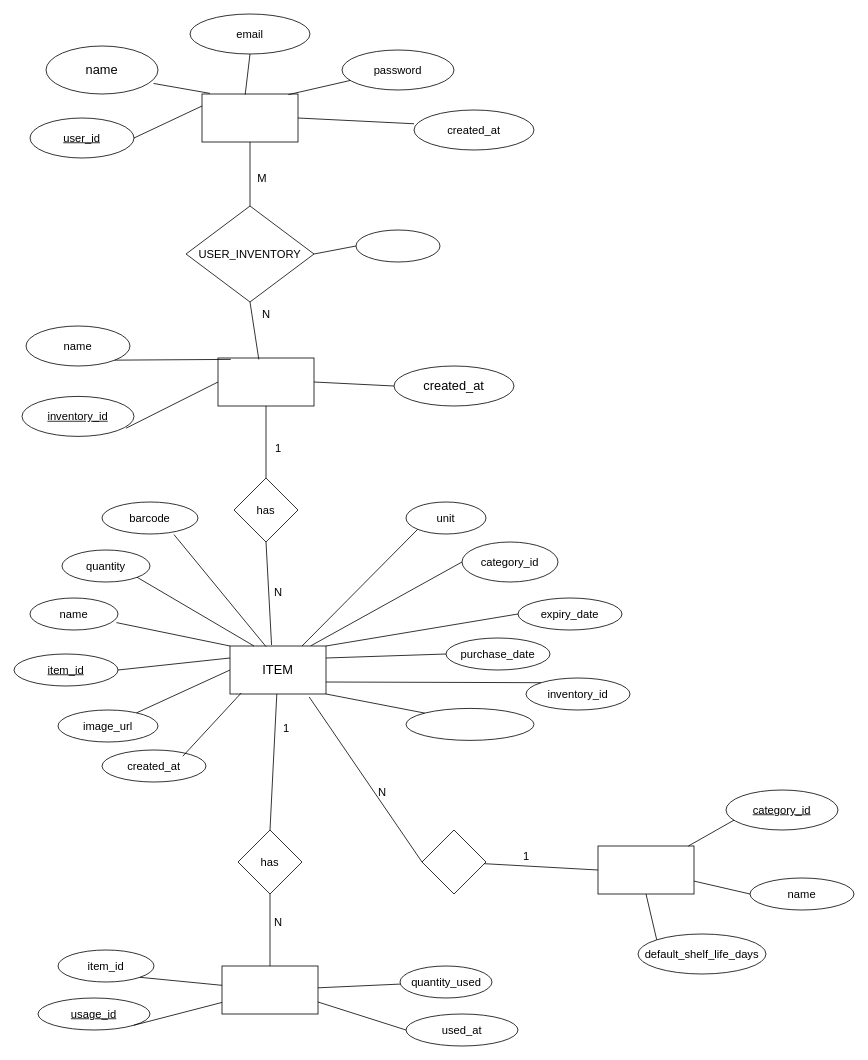
Some shapes in this 868 by 1060 pixel diagram are drawn without their labels. The box of each missing label's shape, as (x1, y1, x2, y2) in pixels:
CATEGORY: (597, 845, 694, 894)
INVENTORY: (217, 357, 314, 406)
role: (355, 229, 440, 262)
updated_at: (405, 708, 534, 740)
USAGE: (221, 965, 318, 1014)
USER: (201, 93, 298, 142)
